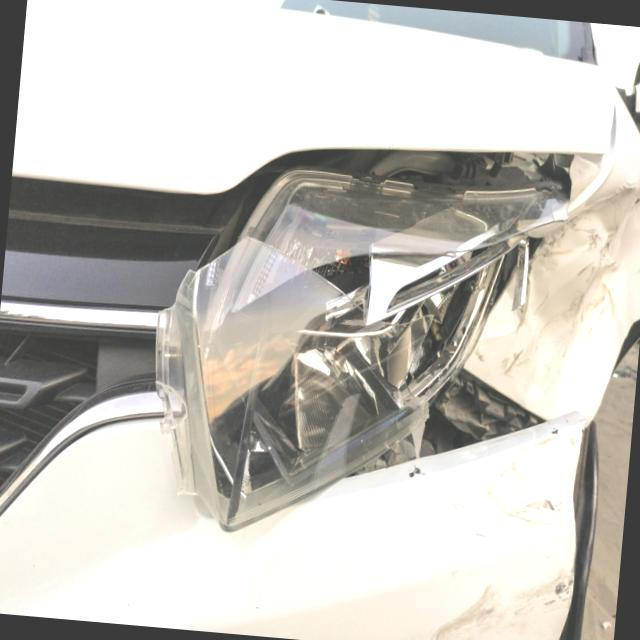Phare abime: (156, 139, 552, 534)
Rayure: (425, 444, 592, 640)
